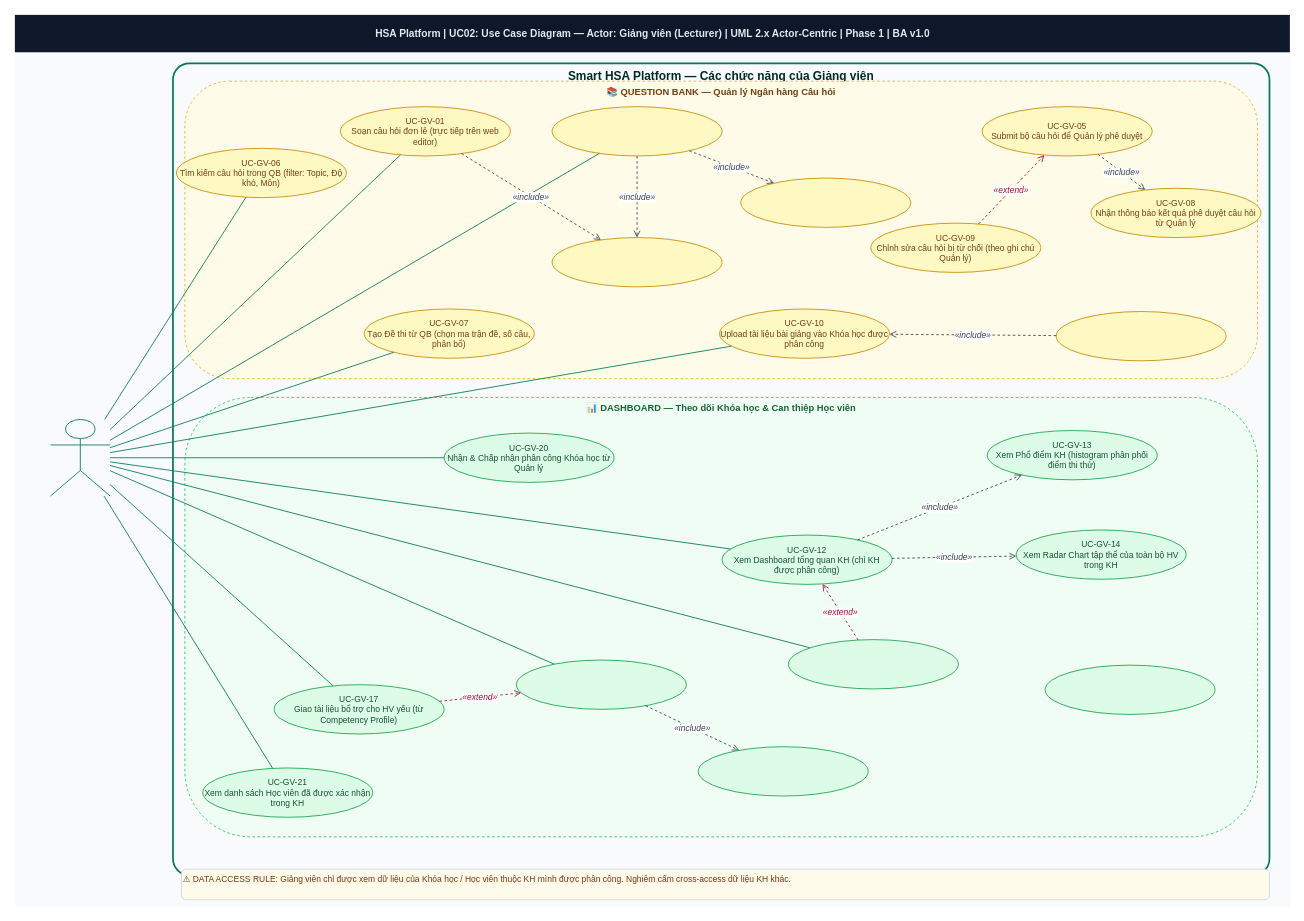
Image size: 1304x921. Some labels were removed from this diagram. Here are the shapes that lost their labels. From the top down, the centre of each, then its label:
At point 636,131: "UC-GV-02 Import bộ câu hỏi từ file (Word/Excel theo mẫu chuẩn)".
At point 825,202: "UC-GV-04 Preview câu hỏi (render MathJax LaTeX / hình ảnh)".
At point 636,262: "UC-GV-03 Gắn metadata: Topic, Độ khó (Bloom), Môn học".
At point 1140,336: "UC-GV-11 Nhận thông báo được phân công vào Khóa học".
At point 80,457: "Giảng viên".
At point 601,684: "UC-GV-15 Xem Competency Profile chi tiết của từng Học viên".
At point 873,664: "UC-GV-19 Xuất báo cáo kết quả KH (Export PDF / Excel)".
At point 1129,689: "UC-GV-18 Nhận Email alert khi HV trong KH có điểm giảm đột ngột".
At point 782,771: "UC-GV-16 Phát hiện HV có điểm giảm hoặc lỗ hổng nghiêm trọng".
